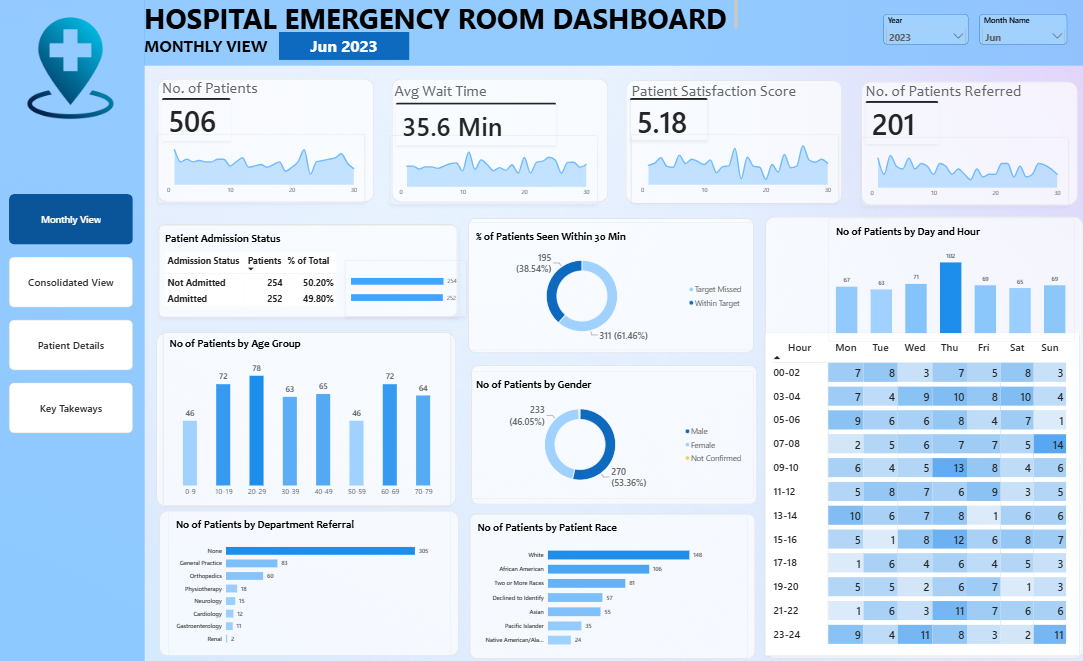

This screenshot's page, from the dashboard's own definition file:
{"tool":"powerbi","page":{"name":"Monthly View","canvas":[2300,1400],"ordinal":0},"visuals":[{"type":"shape","box":[0,0,310,1401.1],"z":0},{"type":"shape","box":[1611.1,457.8,668.9,928.9],"z":1000},{"type":"shape","box":[336.7,473.3,630,196.7],"z":2000},{"type":"shape","box":[339.3,1074.7,629.4,305.9],"z":3000},{"type":"shape","box":[334.9,698,630,368],"z":4000},{"type":"pivotTable","title":"Patient Admission Status","fields":{"Rows":["Hospital ER_Data.Admission Status"],"Values":["Hospital ER_Data.No of Patients1","Hospital ER_Data.No of Patients"]},"box":[340.4,474.5,630,193.6],"z":5000},{"type":"shape","box":[336,168,455,260],"z":6000},{"type":"shape","box":[308.6,0,1993,140],"z":7000},{"type":"textbox","box":[308.6,0,1246.8,69.3],"z":8000},{"type":"textbox","box":[310,76,296,47.2],"z":9000},{"type":"slicer","fields":{"Values":["Date Table.Year"]},"box":[1860.5,30.7,178,64],"z":10000},{"type":"slicer","fields":{"Values":["Date Table.Month Name"]},"box":[2062.5,30.7,184,64],"z":11000},{"type":"cardVisual","fields":{"Data":["Hospital ER_Data.No of Patients"]},"box":[346,208,144,90],"z":12000},{"type":"textbox","box":[346,168,220,48],"z":13000},{"type":"areaChart","fields":{"Category":["Date Table.Date.Variation.Date Hierarchy.Day"],"Y":["Hospital ER_Data.No of Patients"]},"box":[336,282,435,145],"z":14000},{"type":"card","fields":{"Values":["Min(Date Table.Month & Year)"]},"box":[592.9,69.6,273.2,58.9],"z":15000},{"type":"shape","box":[828.1,166.7,455,260],"z":16000},{"type":"textbox","box":[835.7,171.9,220,48],"z":17000},{"type":"areaChart","fields":{"Category":["Date Table.Date.Variation.Date Hierarchy.Day"],"Y":["Avg(Hospital ER_Data.Patient Waittime)"]},"box":[825.7,285.9,435,145],"z":18000},{"type":"shape","box":[1320.2,170.8,455,260],"z":19000},{"type":"cardVisual","fields":{"Data":["Hospital ER_Data.Satisfaction Score"]},"box":[1330,206.7,163.3,90],"z":20000},{"type":"textbox","box":[1333.3,173.3,426.7,50],"z":21000},{"type":"areaChart","fields":{"Category":["Date Table.Date.Variation.Date Hierarchy.Day"],"Y":["Hospital ER_Data.Satisfaction Score"]},"box":[1331.2,284.8,435,145],"z":22000},{"type":"shape","box":[1812.3,174.1,455,260],"z":23000},{"type":"cardVisual","fields":{"Data":["Hospital ER_Data.No of Patients Referred"]},"box":[1823.3,213.3,153.3,90],"z":24000},{"type":"textbox","box":[1823.3,173.3,390,50],"z":25000},{"type":"areaChart","fields":{"Category":["Date Table.Date.Variation.Date Hierarchy.Day"],"Y":["Hospital ER_Data.No of Patients Referred"]},"box":[1812.3,288.1,435,145],"z":26000},{"type":"cardVisual","fields":{"Data":["Hospital ER_Data.Avg Wait Time"]},"box":[836.7,216.7,336.7,90],"z":27000},{"type":"barChart","fields":{"Category":["Hospital ER_Data.Admission Status"],"Y":["Hospital ER_Data.No of Patients"]},"box":[729.8,548.9,255.3,119.1],"z":28000},{"type":"clusteredColumnChart","fields":{"Category":["Hospital ER_Data.Age Group"],"Y":["Hospital ER_Data.No of Patients"]},"box":[350,697.1,602.9,367.6],"z":29000},{"type":"clusteredBarChart","fields":{"Category":["Hospital ER_Data.Department Referral"],"Y":["Hospital ER_Data.No of Patients"]},"box":[359.9,1074.7,594.1,305.9],"z":30000},{"type":"shape","box":[990.1,460.4,600,283.1],"z":31000},{"type":"donutChart","title":"% of Patients Seen Within 30 Min","fields":{"Category":["Hospital ER_Data.Waittime Status"],"Y":["Hospital ER_Data.No of Patients"]},"box":[990.1,468.9,600,267.8],"z":32000},{"type":"shape","box":[993.5,767,600,293.2],"z":33000},{"type":"donutChart","title":"No of Patients by Gender","fields":{"Category":["Hospital ER_Data.Patient Gender"],"Y":["Hospital ER_Data.No of Patients"]},"box":[988.3,780.1,600,267.8],"z":34000},{"type":"shape","box":[990.5,1079.6,600,305.1],"z":35000},{"type":"clusteredBarChart","fields":{"Category":["Hospital ER_Data.Patient Race"],"Y":["Hospital ER_Data.No of Patients"]},"box":[990.5,1079.6,583.1,305.1],"z":36000},{"type":"pivotTable","fields":{"Columns":["Date Table.Day Name"],"Rows":["Hospital ER_Data.Waittime Interval"],"Values":["Hospital ER_Data.No of Patients"]},"box":[1612,700,660,680],"z":37000},{"type":"columnChart","title":"No of Patients by Day and Hour","fields":{"Category":["Date Table.Day Name"],"Y":["Hospital ER_Data.No of Patients"]},"box":[1744,460,518,260],"z":38000},{"type":"image","box":[48.3,0,213.8,289.7],"z":39000},{"type":"pageNavigator","box":[26.7,410,260,503.3],"z":40000}]}

Visuals, with their boxes in screenshot pixels (x1, y1, x2, y2), scaled from the page's 2300x1400 canvas onto the 1083x661 screenshot:
shape: Rect(0, 0, 146, 660)
shape: Rect(759, 216, 1074, 655)
shape: Rect(159, 223, 455, 316)
shape: Rect(160, 507, 456, 652)
shape: Rect(158, 330, 454, 503)
"Patient Admission Status" pivotTable: Rect(160, 224, 457, 315)
shape: Rect(158, 79, 372, 202)
shape: Rect(145, 0, 1082, 66)
textbox: Rect(145, 0, 732, 33)
textbox: Rect(146, 36, 285, 58)
slicer - Date Table.Year: Rect(876, 14, 960, 45)
slicer - Date Table.Month Name: Rect(971, 14, 1058, 45)
cardVisual - Hospital ER_Data.No of Patients: Rect(163, 98, 231, 141)
textbox: Rect(163, 79, 267, 102)
areaChart - Date Table.Date.Variation.Date Hierarchy.Day x Hospital ER_Data.No of Patients: Rect(158, 133, 363, 202)
card - Min(Date Table.Month & Year): Rect(279, 33, 408, 61)
shape: Rect(390, 79, 604, 201)
textbox: Rect(394, 81, 497, 104)
areaChart - Date Table.Date.Variation.Date Hierarchy.Day x Avg(Hospital ER_Data.Patient Waittime): Rect(389, 135, 594, 203)
shape: Rect(622, 81, 836, 203)
cardVisual - Hospital ER_Data.Satisfaction Score: Rect(626, 98, 703, 140)
textbox: Rect(628, 82, 829, 105)
areaChart - Date Table.Date.Variation.Date Hierarchy.Day x Hospital ER_Data.Satisfaction Score: Rect(627, 134, 832, 203)
shape: Rect(853, 82, 1068, 205)
cardVisual - Hospital ER_Data.No of Patients Referred: Rect(859, 101, 931, 143)
textbox: Rect(859, 82, 1042, 105)
areaChart - Date Table.Date.Variation.Date Hierarchy.Day x Hospital ER_Data.No of Patients Referred: Rect(853, 136, 1058, 204)
cardVisual - Hospital ER_Data.Avg Wait Time: Rect(394, 102, 553, 145)
barChart - Hospital ER_Data.Admission Status x Hospital ER_Data.No of Patients: Rect(344, 259, 464, 315)
clusteredColumnChart - Hospital ER_Data.Age Group x Hospital ER_Data.No of Patients: Rect(165, 329, 449, 503)
clusteredBarChart - Hospital ER_Data.Department Referral x Hospital ER_Data.No of Patients: Rect(169, 507, 449, 652)
shape: Rect(466, 217, 749, 351)
"% of Patients Seen Within 30 Min" donutChart: Rect(466, 221, 749, 348)
shape: Rect(468, 362, 750, 501)
"No of Patients by Gender" donutChart: Rect(465, 368, 748, 495)
shape: Rect(466, 510, 749, 654)
clusteredBarChart - Hospital ER_Data.Patient Race x Hospital ER_Data.No of Patients: Rect(466, 510, 741, 654)
pivotTable - Date Table.Day Name x Hospital ER_Data.Waittime Interval: Rect(759, 330, 1070, 652)
"No of Patients by Day and Hour" columnChart: Rect(821, 217, 1065, 340)
image: Rect(23, 0, 123, 137)
pageNavigator: Rect(13, 194, 135, 431)
